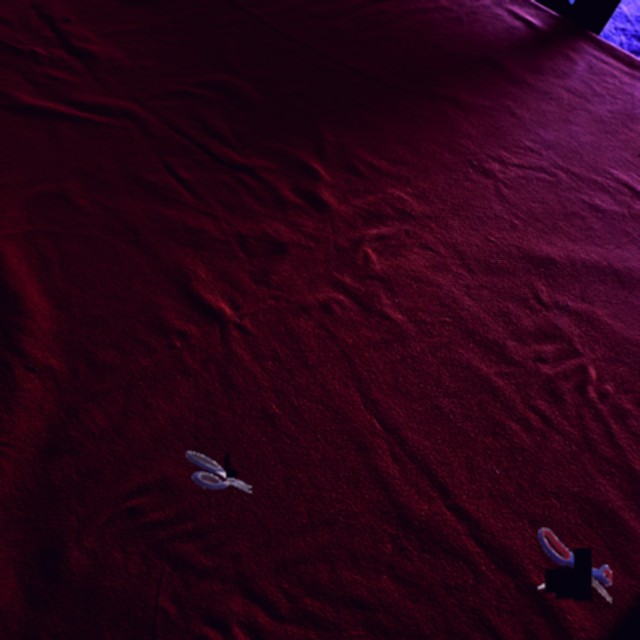scissors: (537, 527, 612, 603), (186, 451, 253, 493)
